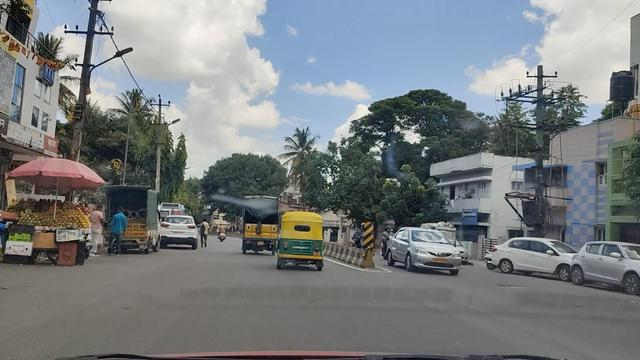LMV: (279, 212, 322, 270)
